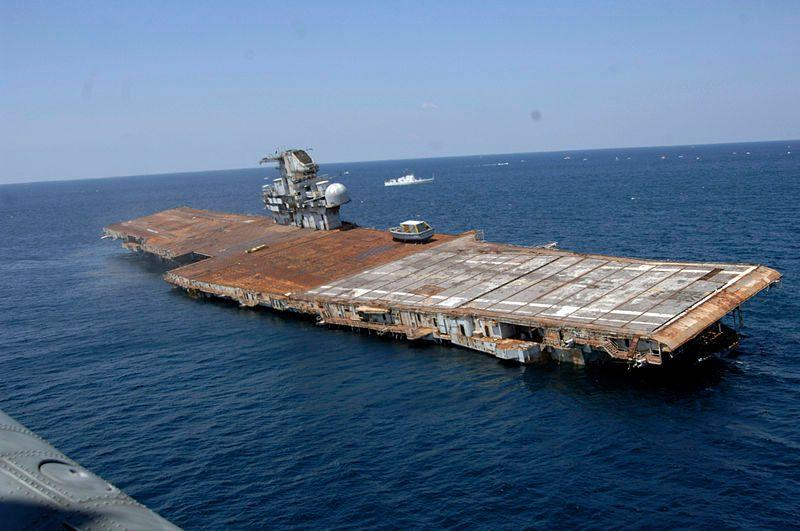rust: (182, 231, 363, 279), (649, 287, 748, 339), (327, 315, 426, 340), (108, 213, 180, 246), (464, 332, 530, 354)
